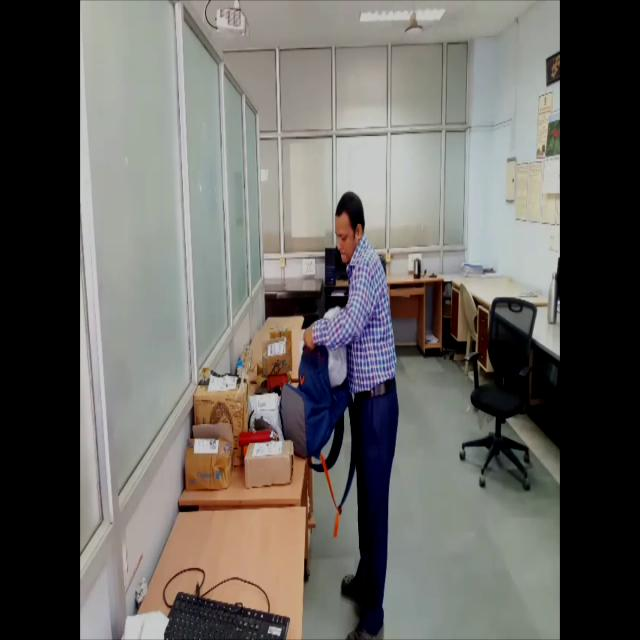shoplifting: (281, 166, 399, 640)
